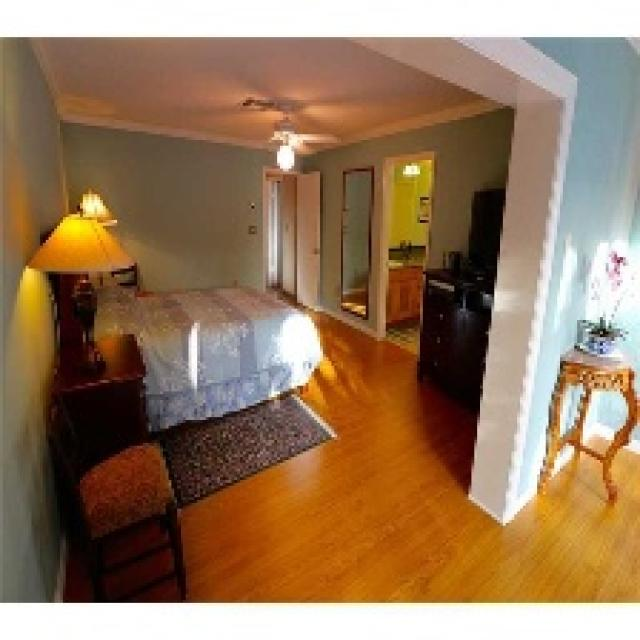Bed: (91, 280, 323, 431)
